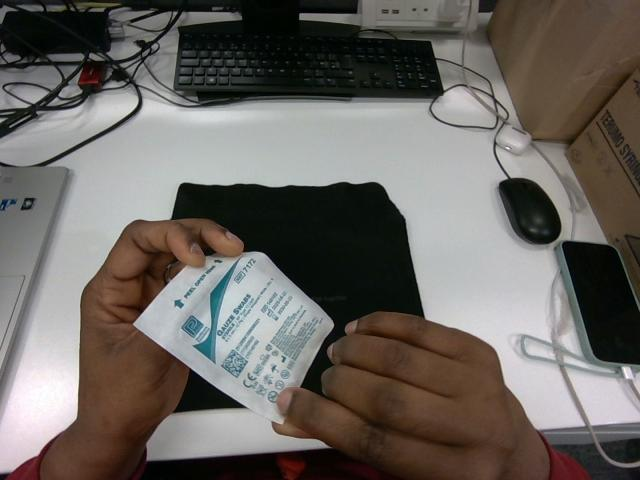gauze: (134, 252, 332, 422)
